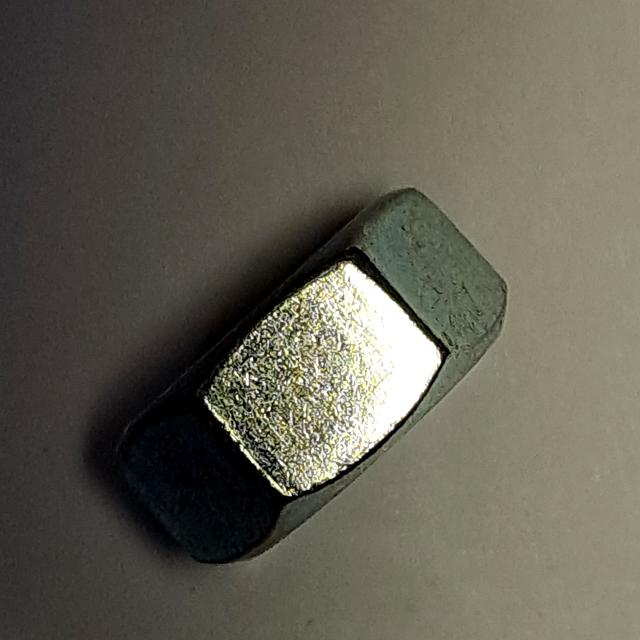Side_Excellent: (98, 175, 523, 579)
